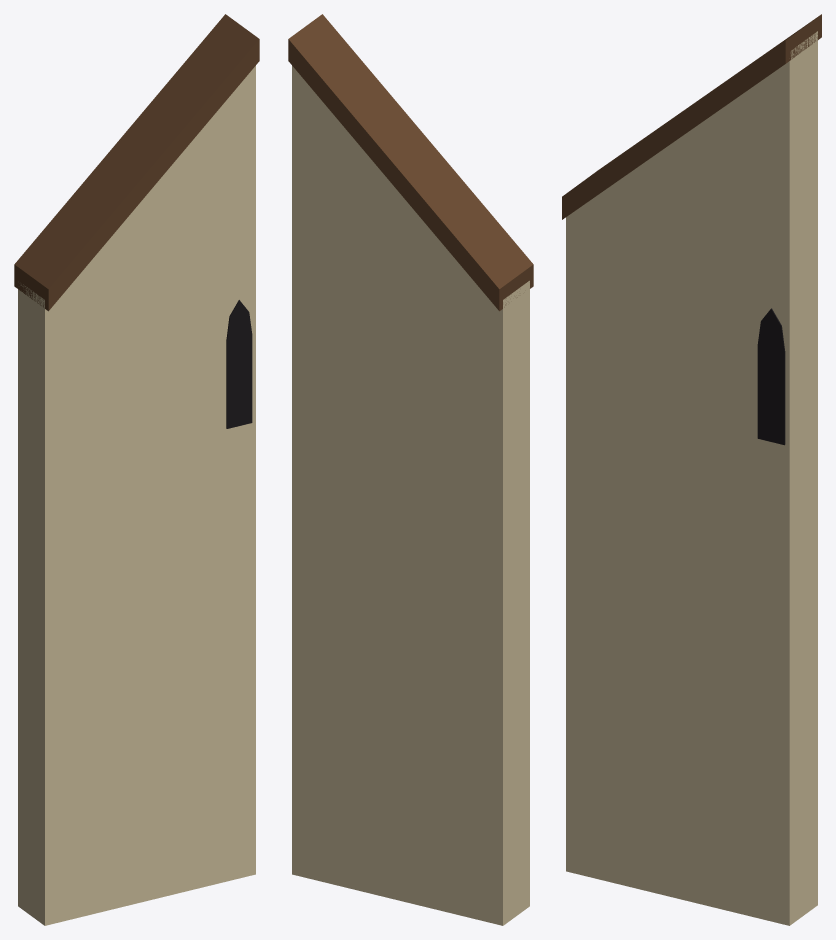
The model's file is Gable3Slit.fbx.
The picture shows the model from 3 angles, left to right: view 1: azimuth 30°, elevation 25°; view 2: azimuth 150°, elevation 25°; view 3: azimuth 330°, elevation 25°; orthographic projection. The views are drawn at different scales.
Visible parts, largest first — view 1: Kit_Gable3Slit; view 2: Kit_Gable3Slit; view 3: Kit_Gable3Slit.
Part boxes in pixels (<box>): Kit_Gable3Slit: <box>14,14,259,925</box>; Kit_Gable3Slit: <box>288,14,533,925</box>; Kit_Gable3Slit: <box>562,14,821,925</box>.
Size of the model in its own units: 1 by 3.79 by 0.28.
